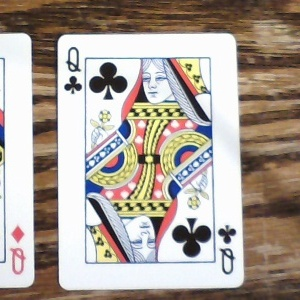card: (56, 33, 244, 288)
